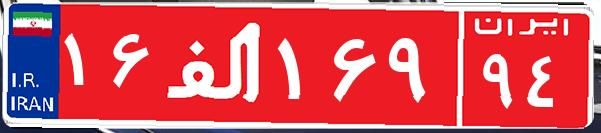1: (273, 28, 330, 110), (57, 26, 110, 107)
4: (525, 38, 570, 115)
6: (330, 28, 385, 110), (110, 28, 158, 105)
9: (385, 28, 445, 110), (475, 38, 525, 113)
الف: (158, 15, 273, 115)
